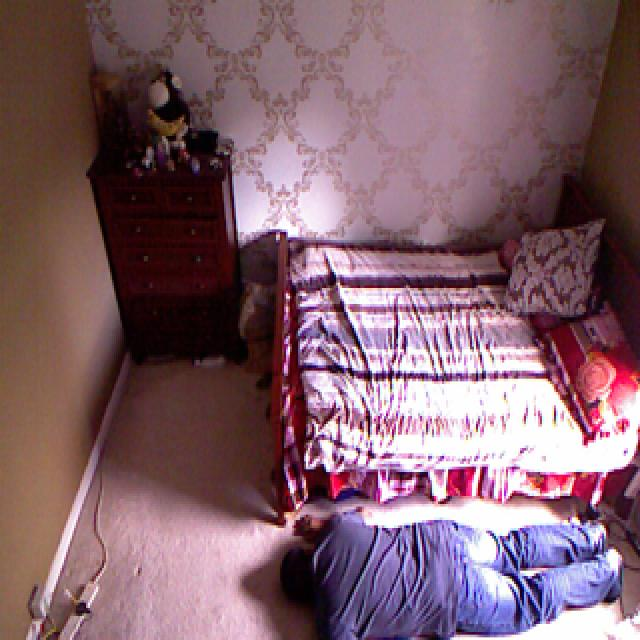lying: (274, 514, 629, 640)
